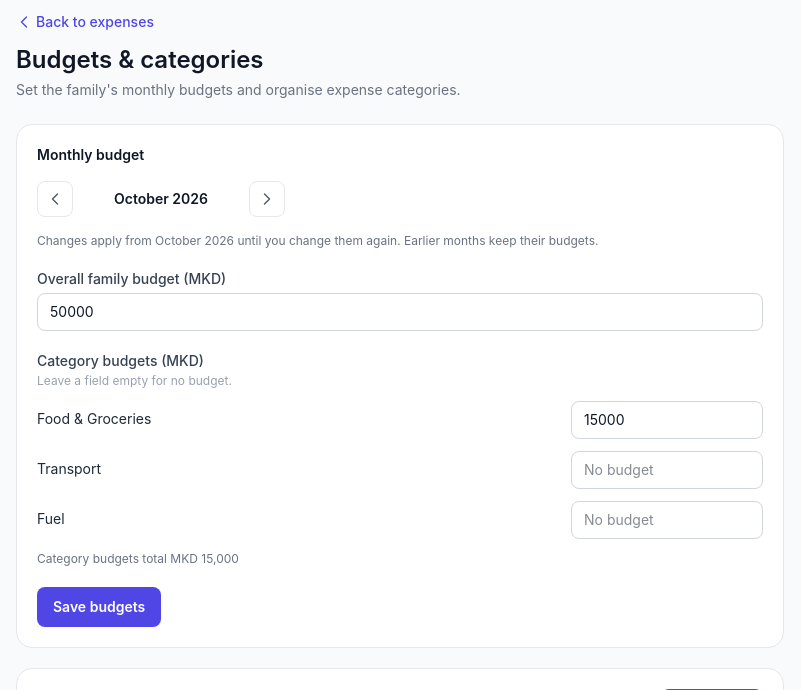
Test: Expense settings: budgets › rejects the budget 12.345 without saving
Replace the text in the field labelled "Overall family budget (MKD)" with "12.345" at (400, 312), box x1=37 y1=293 x2=763 y2=331
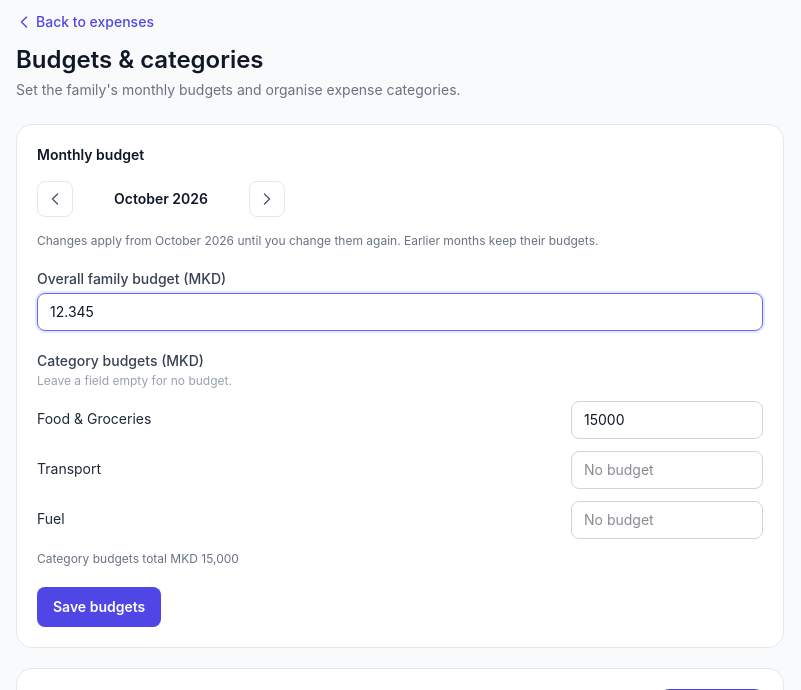
Click the button "Save budgets" at (99, 607), box x1=37 y1=587 x2=161 y2=627
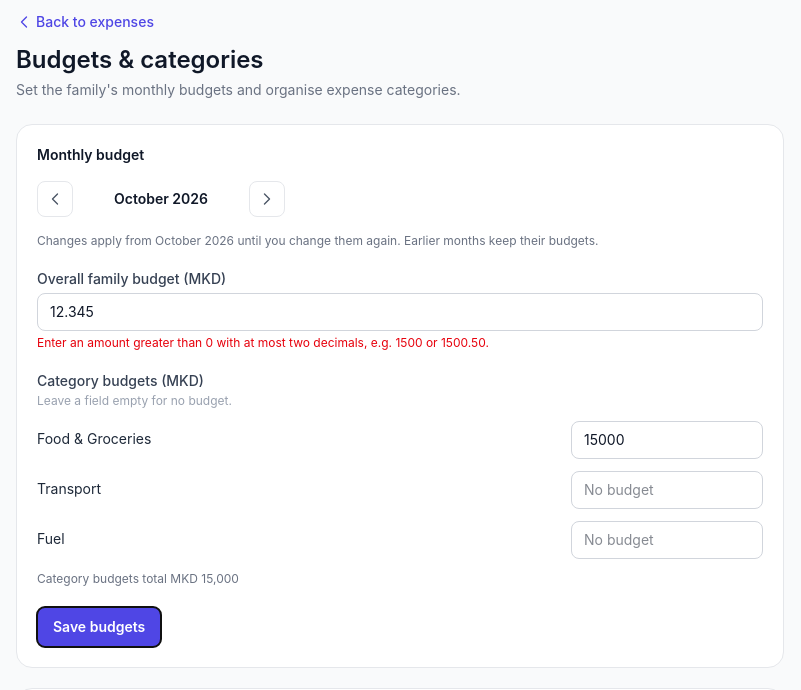
expect the text "Enter an amount greater than 0 with at most two decimals, e.g. 1500 or 1500.50." is shown: met, box x1=37 y1=335 x2=489 y2=350
